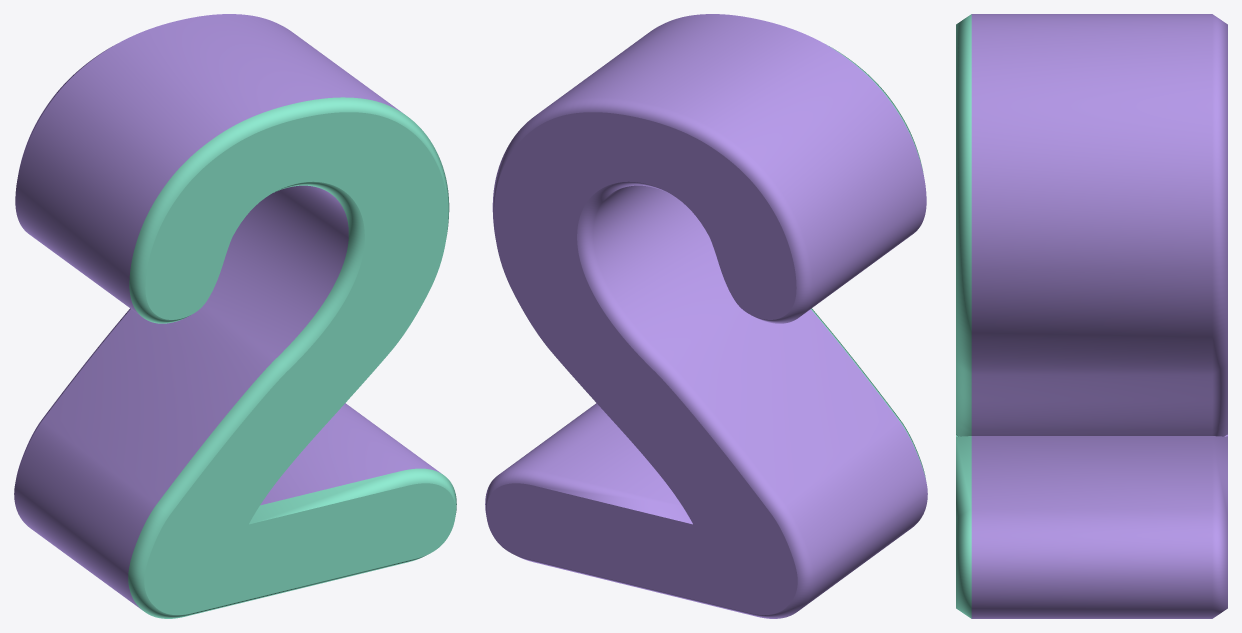
3 views of the same model, side by side, from view 1: azimuth 30°, elevation 25°; view 2: azimuth 150°, elevation 25°; view 3: azimuth 270°, elevation 25° (orthographic). The views are drawn at different scales.
Parts seen in each view (by area): view 1: Dua_3D; view 2: Dua_3D; view 3: Dua_3D.
Boxes of the visible parts, bbox=[...] form: Dua_3D: bbox=[14, 14, 456, 618]; Dua_3D: bbox=[485, 14, 927, 618]; Dua_3D: bbox=[956, 14, 1227, 618].
Size of the model in its own units: 114 by 162 by 77.6.
